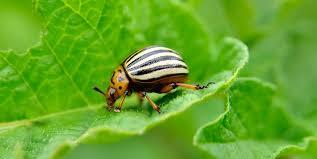insect: (91, 42, 216, 115)
